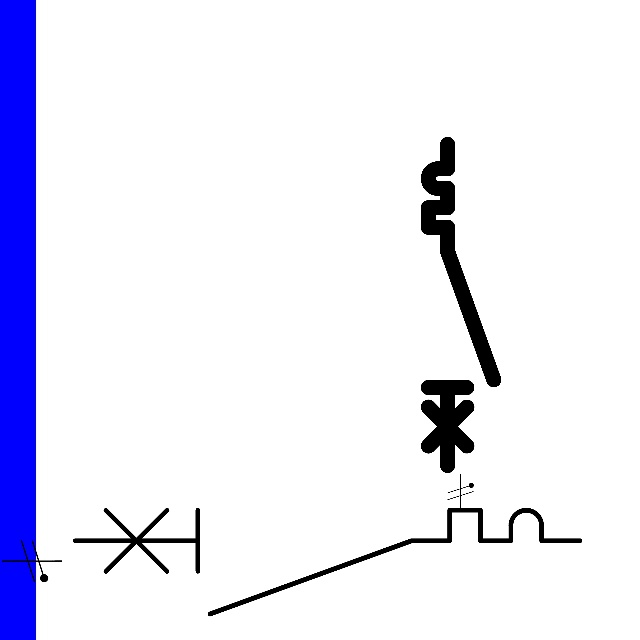interruptor_termomagnetico: (62, 497, 593, 627), (420, 136, 502, 473)
